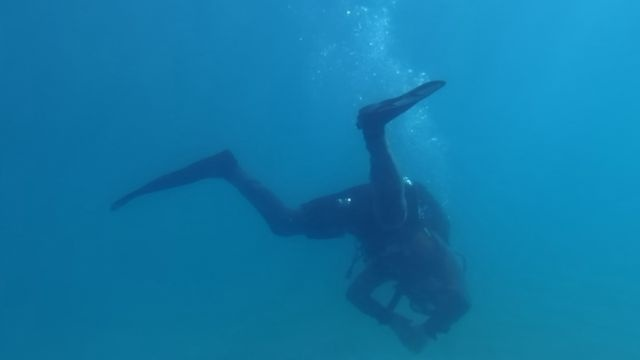Diver: (103, 73, 484, 356)
Hand: (398, 323, 435, 351), (388, 313, 415, 344)
